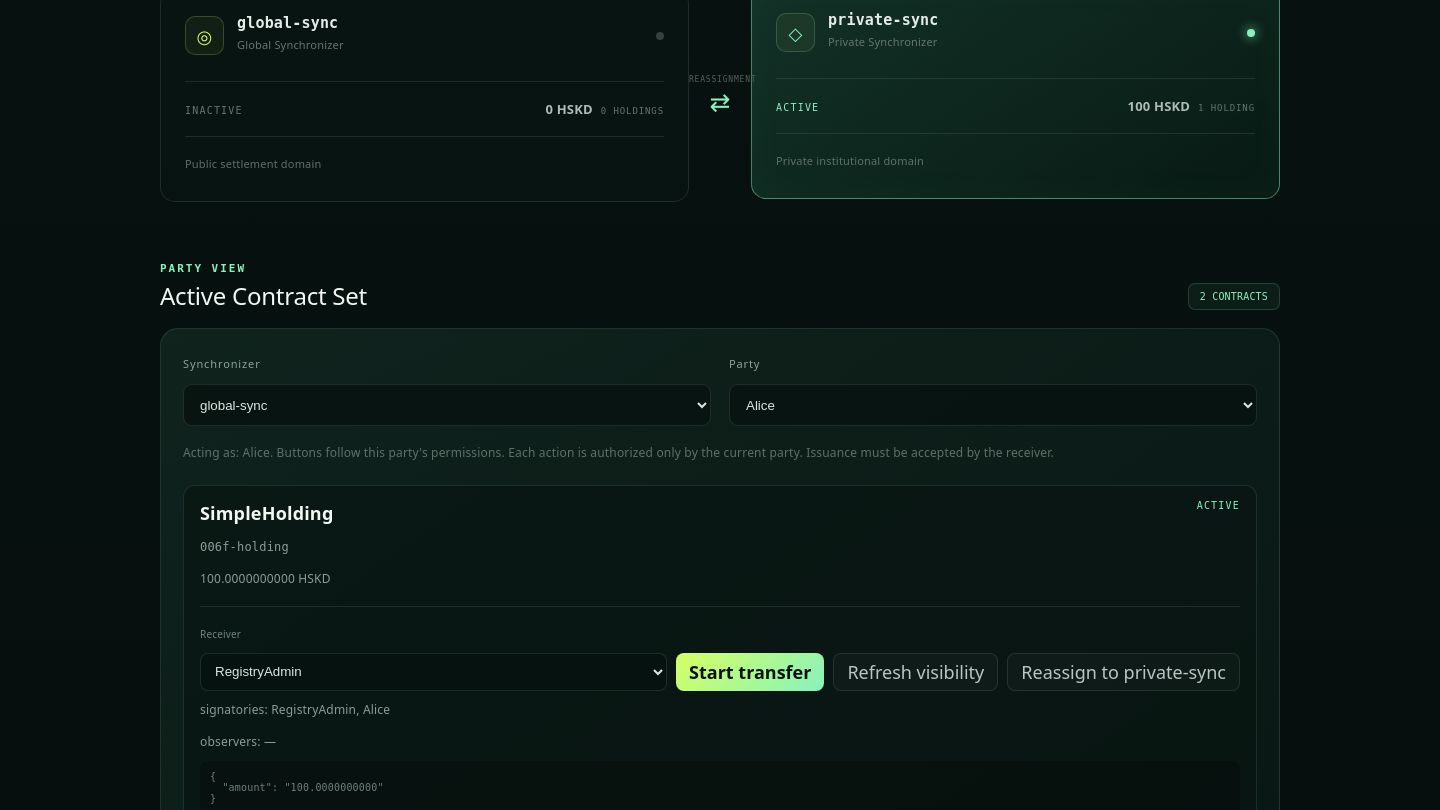
Test: CIP-56 dashboard › only enables Holding owner actions for the selected Party
This screenshot has width=1440, height=810.
(page scrolled)
Expected: the button "Start transfer" is enabled, [676,653,824,691]
Expected: the button "Refresh visibility" is enabled, [833,653,998,691]
Select "RegistryAdmin" in the dropdown labelled "Party" at {"x": 993, "y": 406}, box [729,384,1257,426]
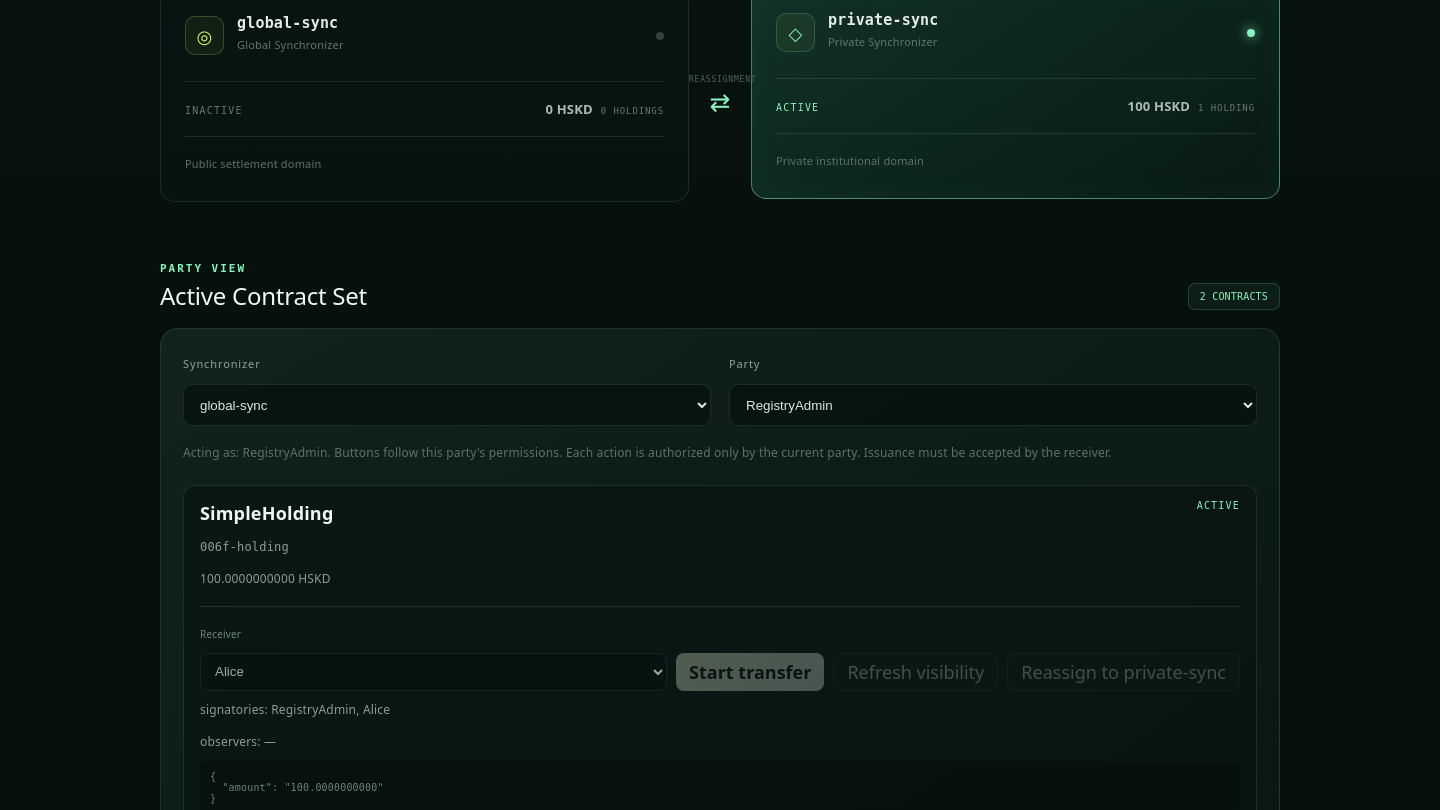
Expected: the button "Start transfer" is disabled, [676,653,824,691]
Expected: the button "Refresh visibility" is disabled, [833,653,998,691]
